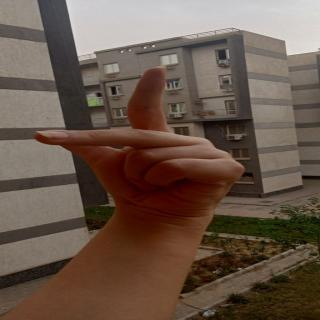DHAA: (24, 51, 265, 196)
